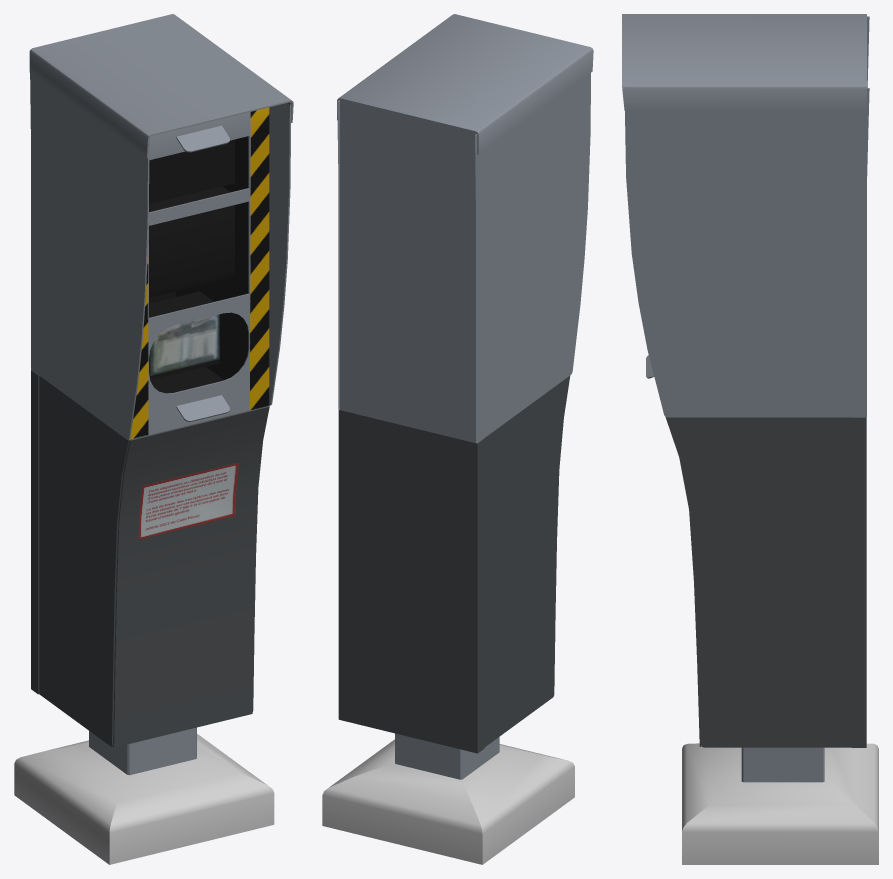
3 views of the same model, side by side, from view 1: azimuth 30°, elevation 25°; view 2: azimuth 150°, elevation 25°; view 3: azimuth 270°, elevation 25° (orthographic). The views are drawn at different scales.
Visible parts, largest first — view 1: Mesta210D_cabine_LOD1, Mesta210D_plotbeton_LOD1, vitre_LOD1, Mesta210D_pied_LOD1; view 2: Mesta210D_cabine_LOD1, Mesta210D_plotbeton_LOD1, Mesta210D_pied_LOD1; view 3: Mesta210D_cabine_LOD1, Mesta210D_plotbeton_LOD1, Mesta210D_pied_LOD1.
Boxes of the visible parts, box(x1,y1,x2,y2) form: Mesta210D_cabine_LOD1: box(29, 14, 293, 747); Mesta210D_plotbeton_LOD1: box(14, 734, 274, 864); vitre_LOD1: box(149, 136, 248, 393); Mesta210D_pied_LOD1: box(89, 727, 196, 775); Mesta210D_cabine_LOD1: box(337, 14, 593, 753); Mesta210D_plotbeton_LOD1: box(322, 739, 574, 864); Mesta210D_pied_LOD1: box(395, 733, 499, 779); Mesta210D_cabine_LOD1: box(622, 14, 869, 747); Mesta210D_plotbeton_LOD1: box(682, 743, 878, 864); Mesta210D_pied_LOD1: box(741, 747, 824, 782).
Bounding box in the file's own units: 0.3641 × 1.58 × 0.4746.
